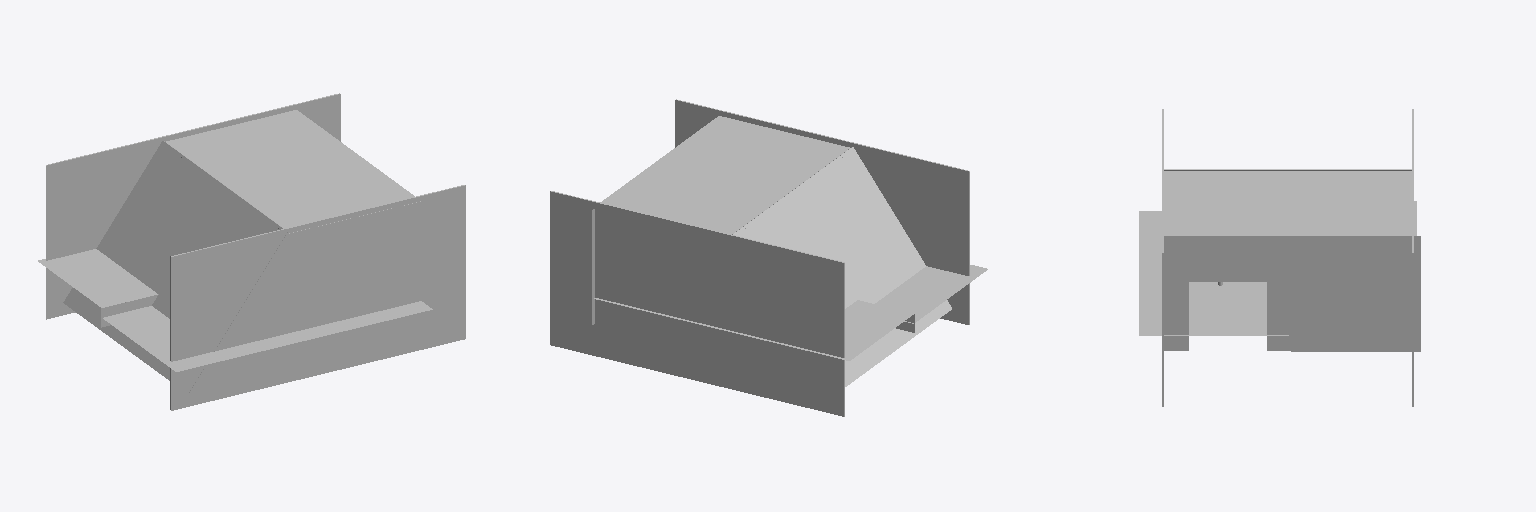
Rendered from SoraJewelBase_Kaiii.obj.
The picture shows the model from 3 angles: view 1: azimuth 30°, elevation 25°; view 2: azimuth 150°, elevation 25°; view 3: azimuth 270°, elevation 25°; orthographic projection.
Visible parts, largest first — view 1: pCube6 polySurface1 polySurface22, pCube1 polySurface2 polySurface1, pCube4 polySurface1 polySurface3, pCube5 polySurface1 polySurface4, pPlane9 polySurface1 polySurface20, pPlane5 polySurface1 polySurface17, pPlane10 polySurface1 polySurface21, pPlane8 polySurface1 polySurface19; view 2: pCube5 polySurface1 polySurface4, pCube4 polySurface1 polySurface3, pCube1 polySurface2 polySurface1, pCube6 polySurface1 polySurface22, pPlane9 polySurface1 polySurface20, pPlane5 polySurface1 polySurface17; view 3: pCube1 polySurface2 polySurface1, pPlane2 polySurface1 polySurface5, pPlane3 polySurface1 polySurface15, pPlane10 polySurface1 polySurface21, pPlane9 polySurface1 polySurface20, pCube5 polySurface1 polySurface4, pCube6 polySurface1 polySurface22.
Boxes of the visible parts, x1,y1,x2,y2 form: pCube6 polySurface1 polySurface22: [170, 185, 465, 410]; pCube1 polySurface2 polySurface1: [166, 110, 421, 235]; pCube4 polySurface1 polySurface3: [63, 141, 288, 394]; pCube5 polySurface1 polySurface4: [46, 93, 340, 319]; pPlane9 polySurface1 polySurface20: [103, 306, 303, 371]; pPlane5 polySurface1 polySurface17: [38, 249, 157, 307]; pPlane10 polySurface1 polySurface21: [293, 301, 432, 340]; pPlane8 polySurface1 polySurface19: [101, 294, 158, 327]; pCube5 polySurface1 polySurface4: [550, 191, 844, 416]; pCube4 polySurface1 polySurface3: [732, 147, 951, 386]; pCube1 polySurface2 polySurface1: [600, 116, 849, 234]; pCube6 polySurface1 polySurface22: [675, 99, 969, 324]; pPlane9 polySurface1 polySurface20: [875, 265, 987, 323]; pPlane5 polySurface1 polySurface17: [722, 300, 913, 360]; pCube1 polySurface2 polySurface1: [1164, 171, 1411, 237]; pPlane2 polySurface1 polySurface5: [1291, 236, 1420, 351]; pPlane3 polySurface1 polySurface15: [1164, 238, 1291, 350]; pPlane10 polySurface1 polySurface21: [1139, 273, 1288, 335]; pPlane9 polySurface1 polySurface20: [1139, 211, 1161, 272]; pCube5 polySurface1 polySurface4: [1412, 109, 1413, 406]; pCube6 polySurface1 polySurface22: [1162, 109, 1163, 406].
Size of the model in its own units: 16.4 by 8 by 13.29.